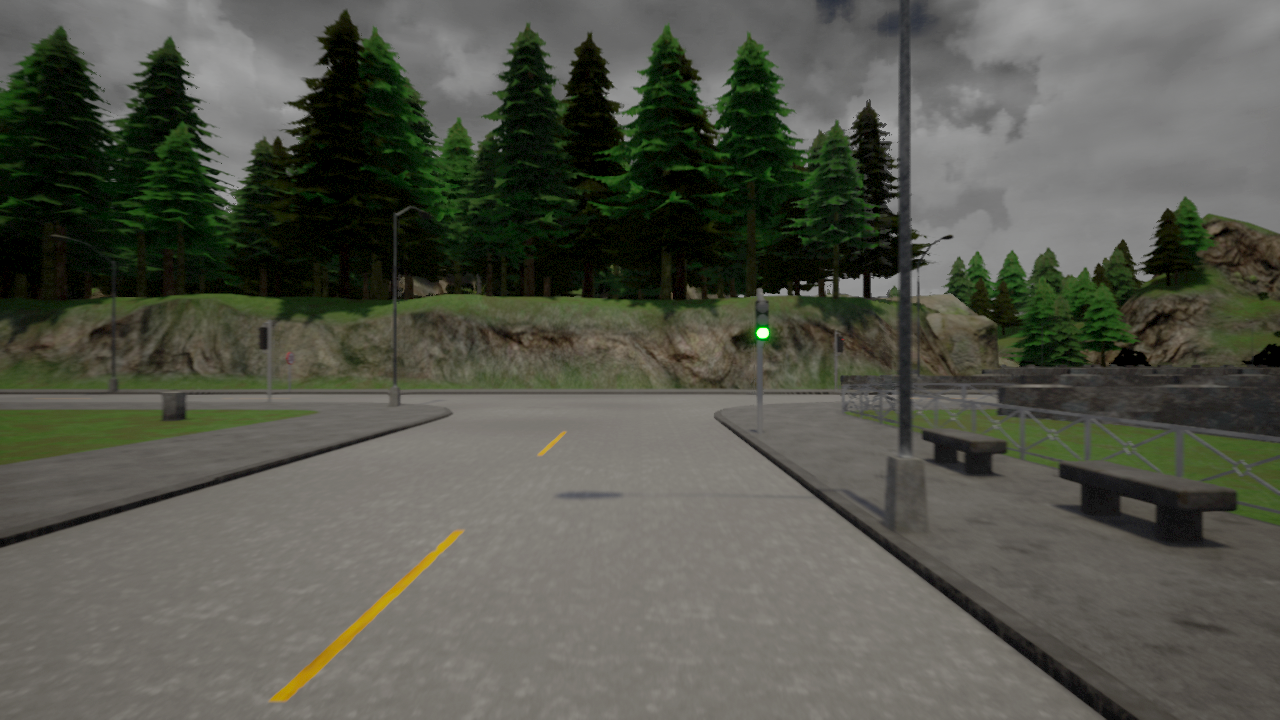green: (753, 297, 770, 341)
